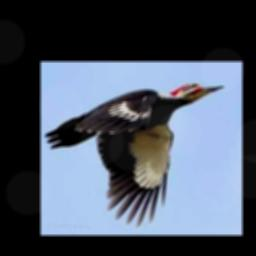Woodpecker: (44, 82, 224, 227)
